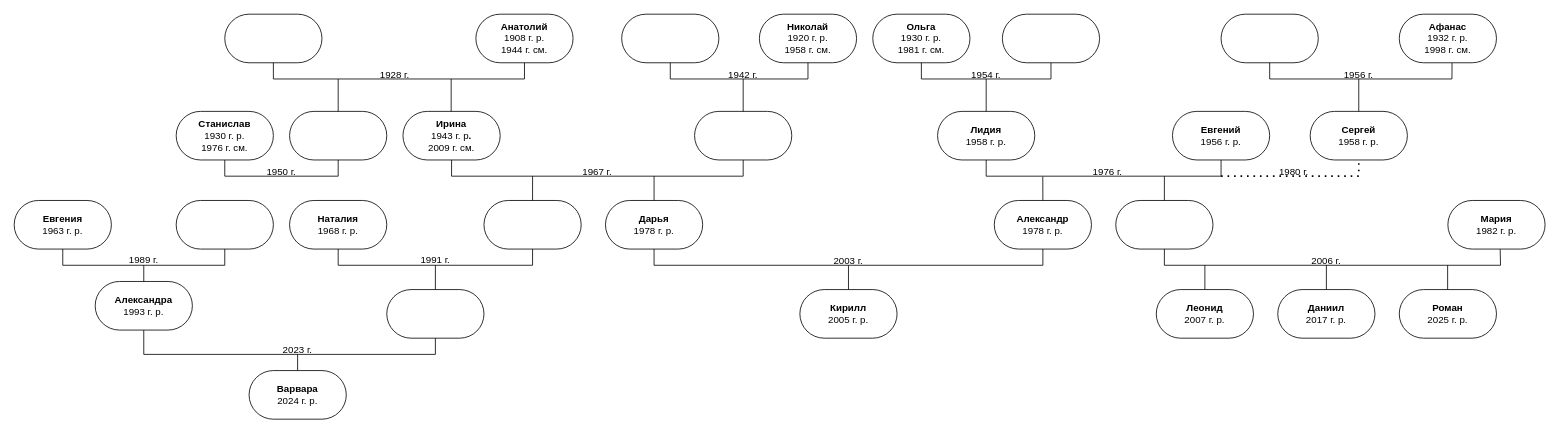
The diagram is 1559 pixels wide and 433 high, and some of its shapes have lost their labels. Each missing label, with the box of its shape:
Антонина 1908 г. р. 1944 г. см.: (224, 13, 322, 63)
Артем 1982 г. р.: (1115, 200, 1213, 249)
Василий 1930 г. р. 1974 г. см.: (1002, 13, 1100, 63)
Людмила 1930 г. р. 2019 г. см.: (289, 111, 387, 160)
Олег 1968 г. р.: (483, 200, 581, 249)
Прасковья 1920 г. р. 1960 г. см.: (621, 13, 719, 63)
София 1932 г. р. 1998 г. см.: (1220, 13, 1318, 63)
Феликс 1963 г. р.: (175, 200, 273, 249)
Юрий 1944 г. р. 1966 г. см.: (694, 111, 792, 160)
Юрий 1993 г. р.: (386, 289, 484, 338)
